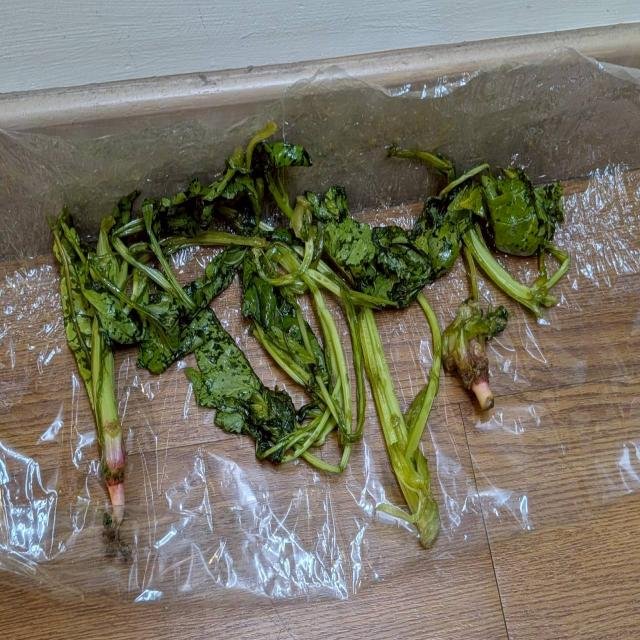rotten spinach: (43, 127, 573, 573), (292, 130, 476, 570), (178, 138, 390, 502), (401, 112, 571, 434), (54, 194, 187, 578)
